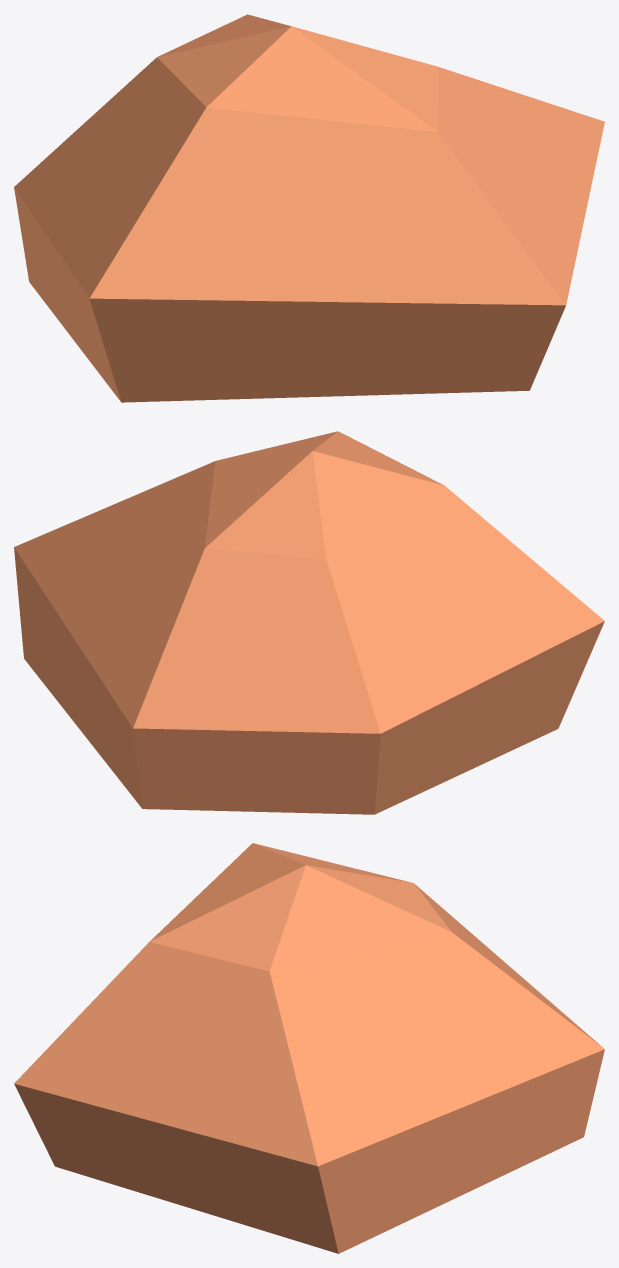
File: Rock_9.fbx
3 views of the same model, one above another, from view 1: azimuth 30°, elevation 25°; view 2: azimuth 150°, elevation 25°; view 3: azimuth 270°, elevation 25° (orthographic). The views are drawn at different scales.
Parts seen in each view (by area): view 1: Rock_9; view 2: Rock_9; view 3: Rock_9.
Part boxes in pixels (<box>): Rock_9: <box>14,14,604,402</box>; Rock_9: <box>14,431,604,814</box>; Rock_9: <box>14,843,604,1253</box>.
Size of the model in its own units: 19.47 by 9.18 by 19.05.
